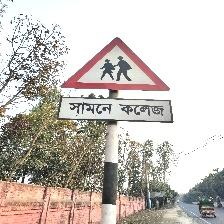College-in-front: (51, 31, 190, 133)
